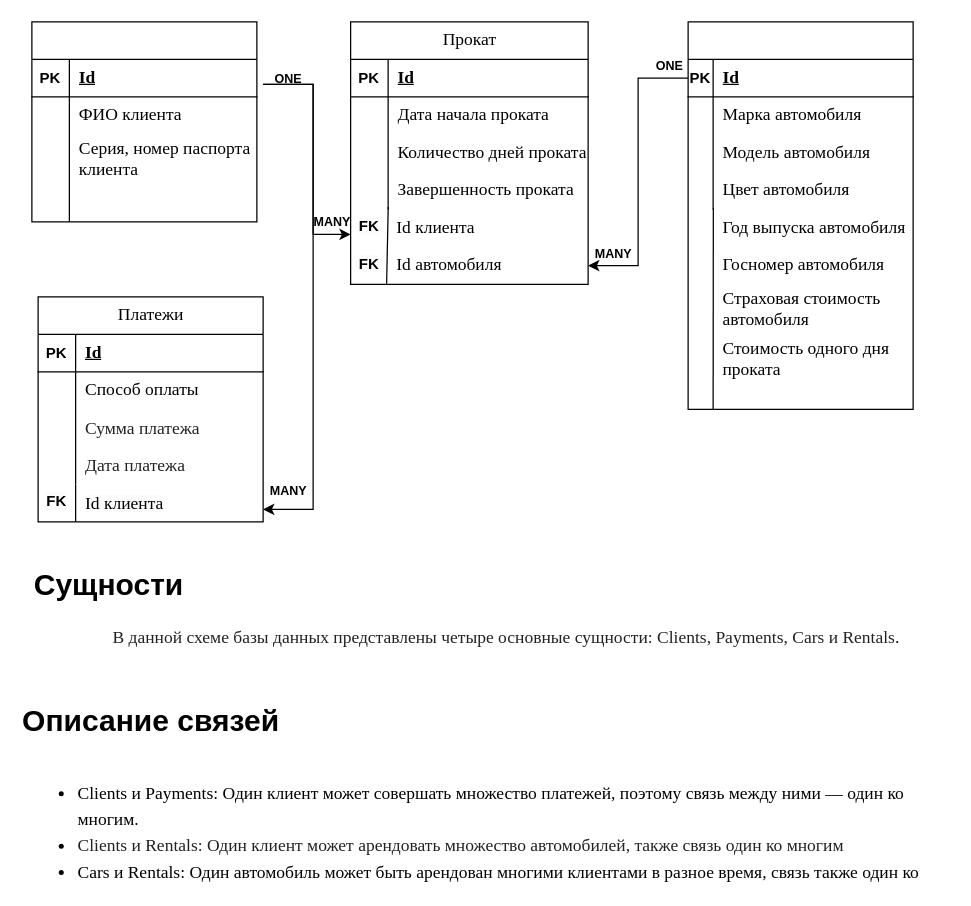
This 971x906 diagram has some shape labels left out. The box of each missing label's shape, as (x1, y1, x2, y2) in pixels:
Автомобили: (687, 21, 913, 409)
Клиенты: (31, 21, 257, 222)
